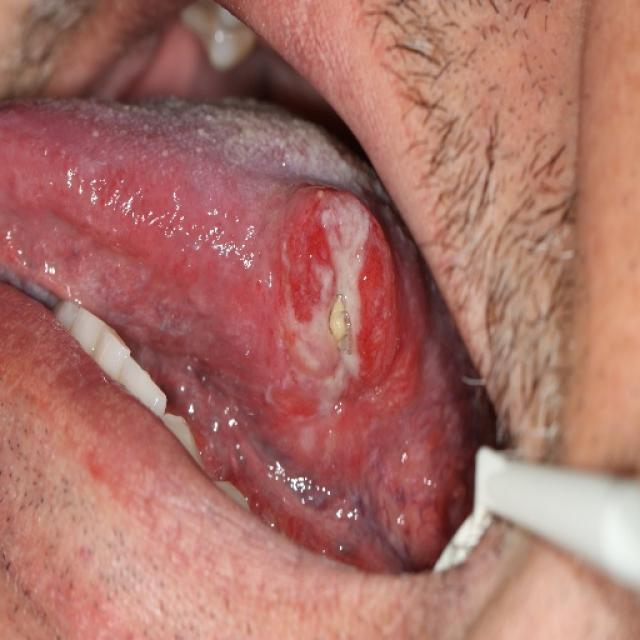cancer-detection: (267, 170, 421, 412)
processing_area: (2, 93, 464, 573)
